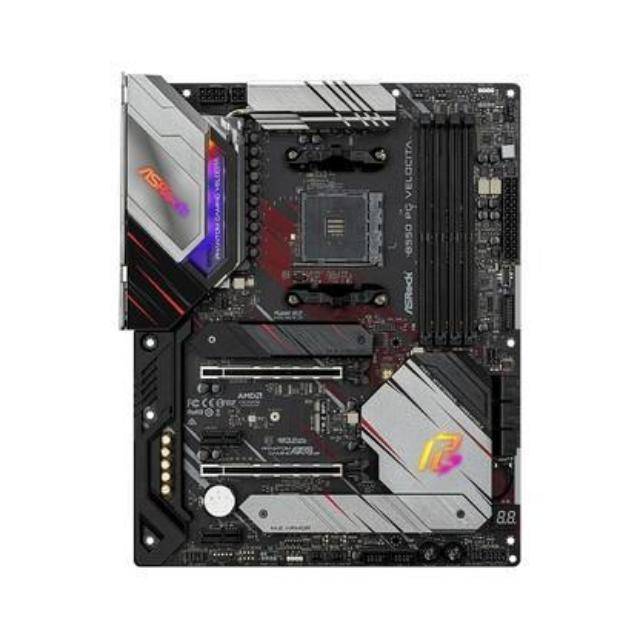Mainboard: (111, 64, 531, 582)
